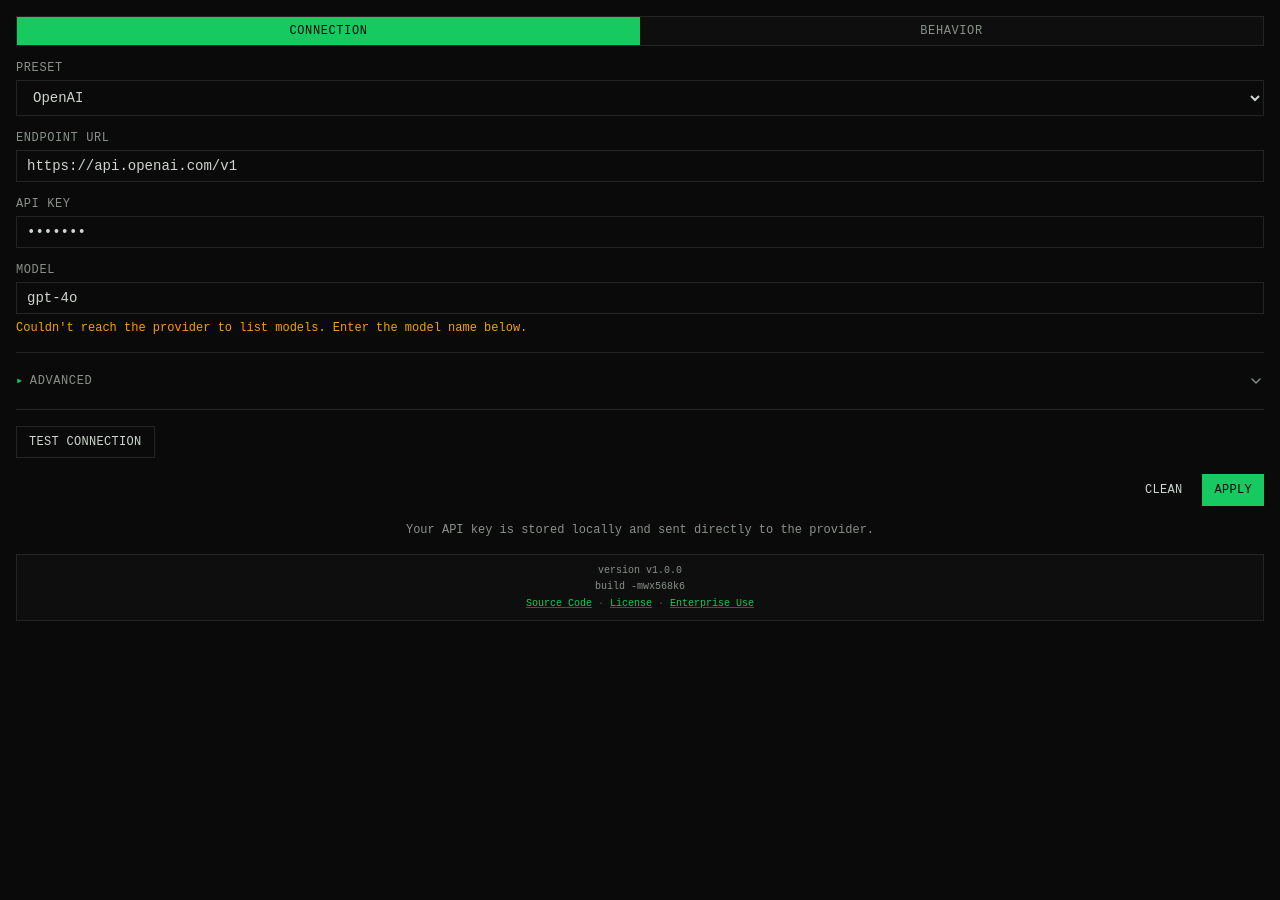
Test case: SettingsPanel › Clean resets to store values
The width and height of the screenshot is (1280, 900).
Clear the field with placeholder "https://api.openai.com/v1". click: (640, 166)
box: x1=16 y1=150 x2=1264 y2=182
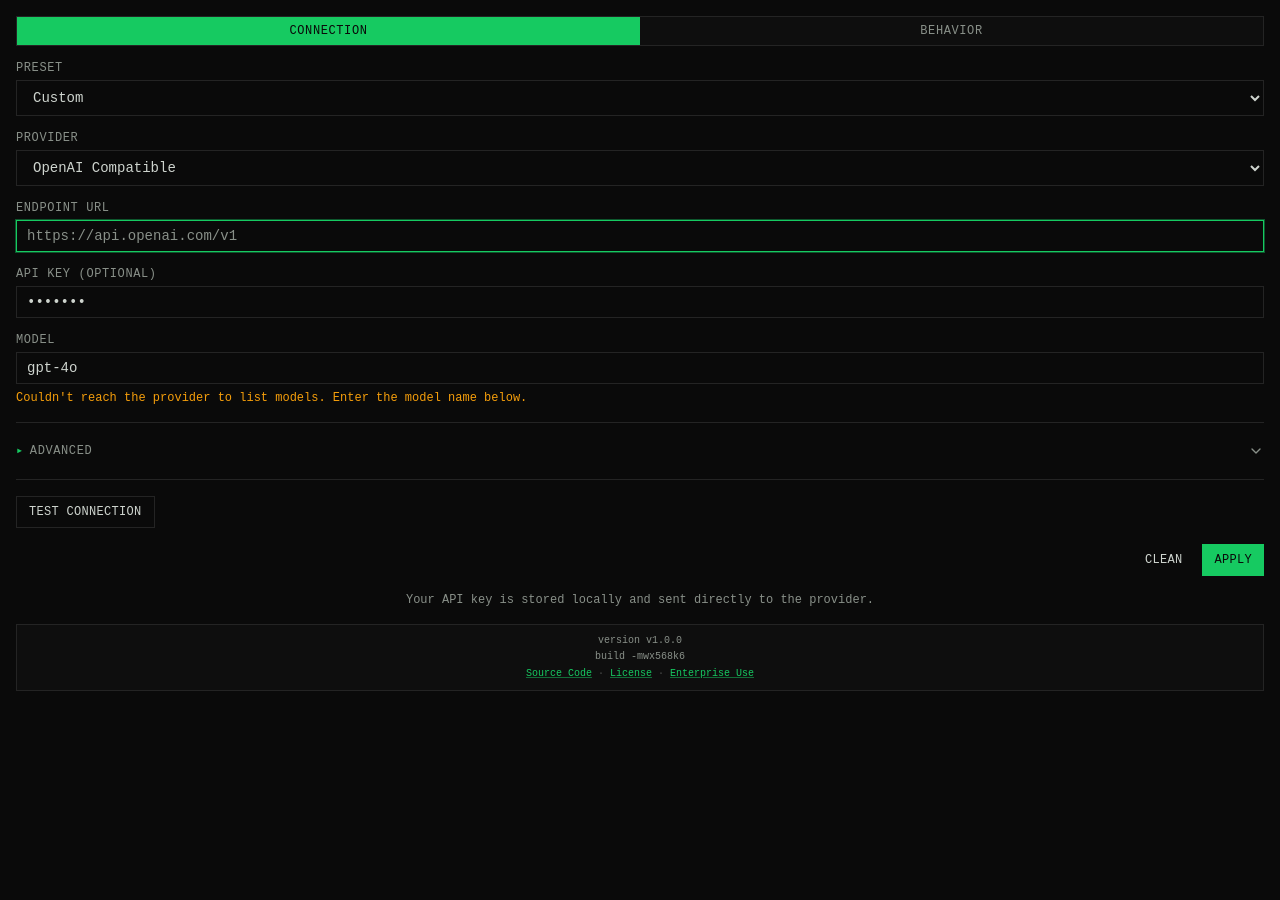
Type "https://custom.api/v1" into the field with placeholder "https://api.openai.com/v1". click: (640, 236)
box: x1=16 y1=220 x2=1264 y2=252
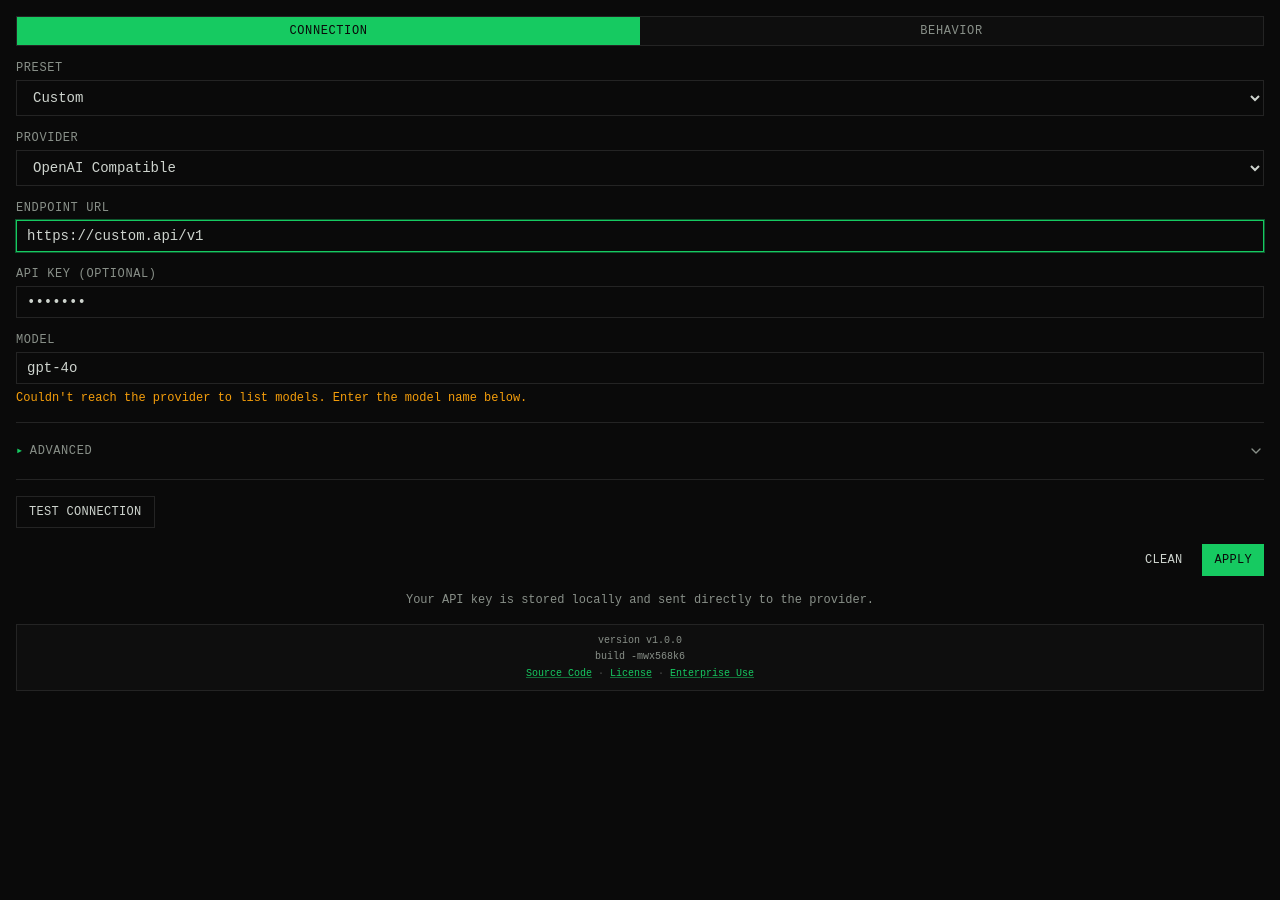
Click the button "Clean". click: (1164, 560)
box: x1=1133 y1=544 x2=1194 y2=576
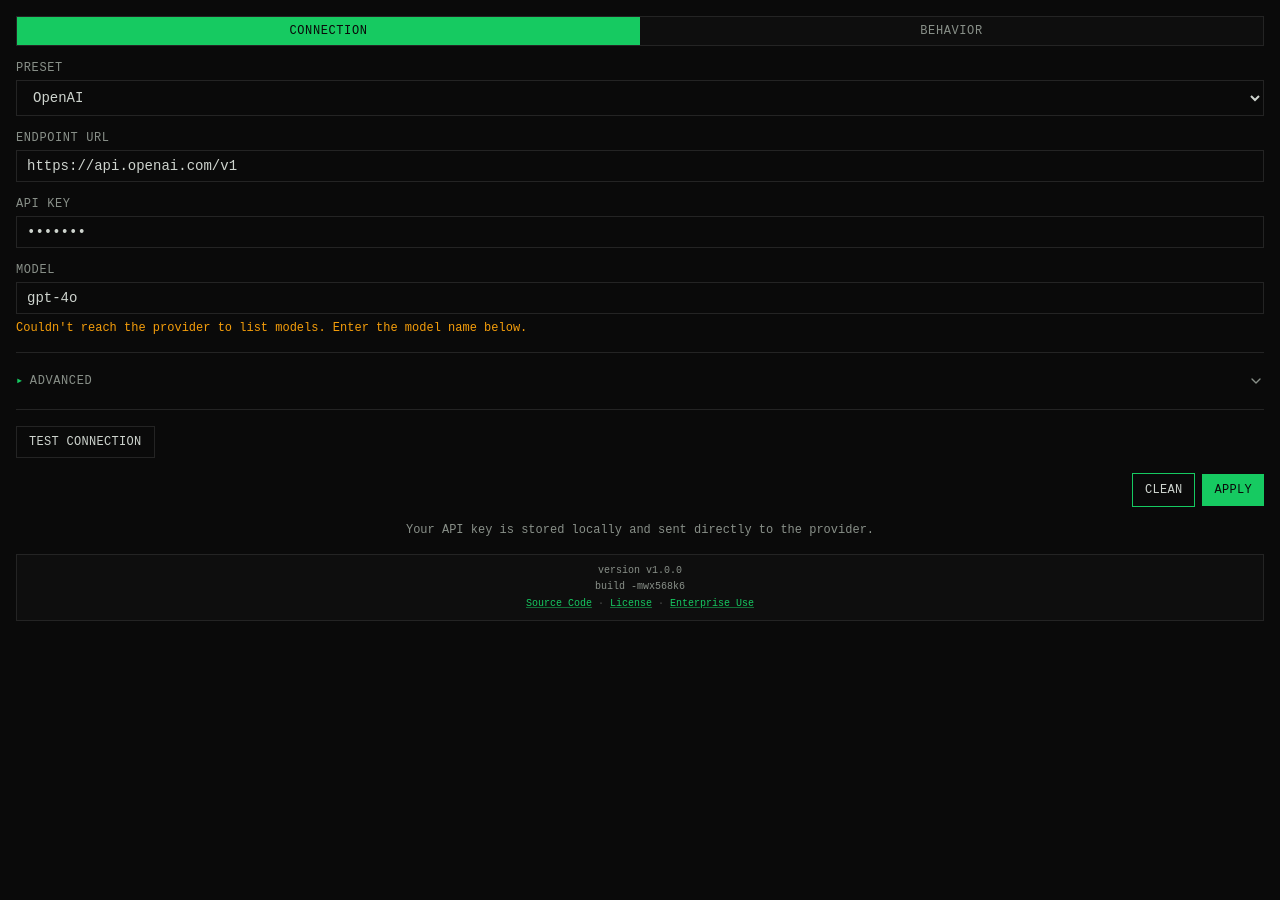
Expected: the field with placeholder "https://api.openai.com/v1" holds "https://api.openai.com/v1", x1=16 y1=150 x2=1264 y2=182
